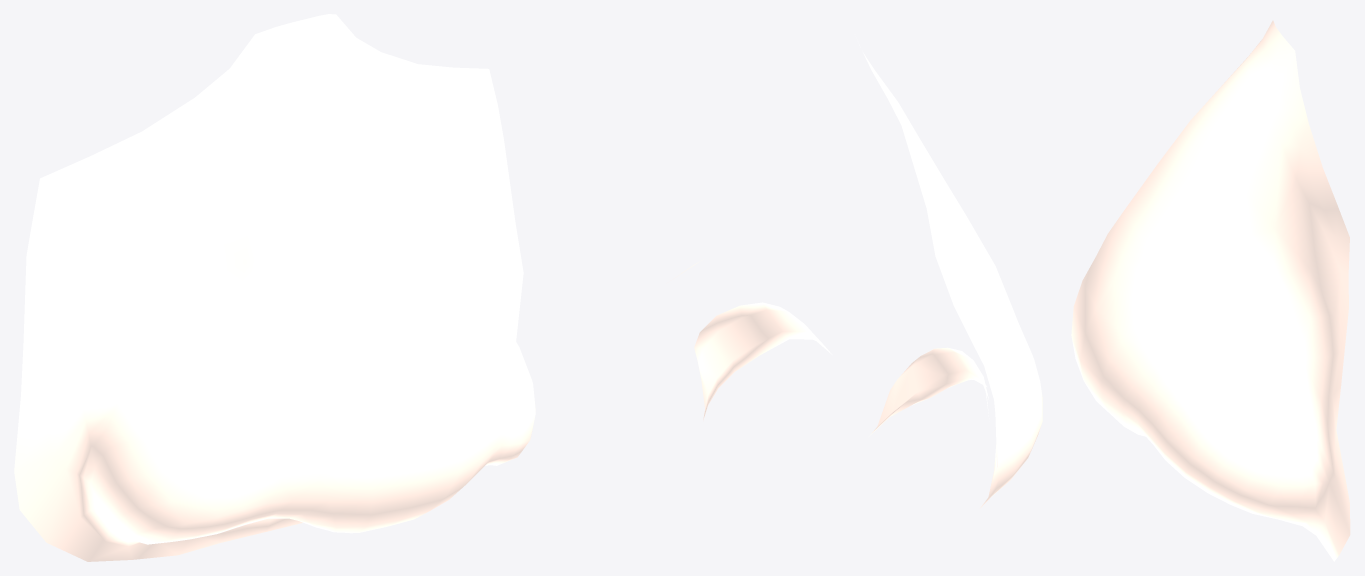
The model's file is nose_03.glb.
3 renders of one model, left to right at view 1: azimuth 30°, elevation 25°; view 2: azimuth 150°, elevation 25°; view 3: azimuth 270°, elevation 25°, orthographic. The views are drawn at different scales.
Visible parts, largest first — view 1: nose_03; view 2: nose_03; view 3: nose_03.
Boxes of the visible parts, x1,y1,x2,y2 form: nose_03: (14,14,535,561); nose_03: (674,44,1042,508); nose_03: (1071,20,1350,561).
Size of the model in its own units: 0.000983 by 0.00102 by 0.000536.
